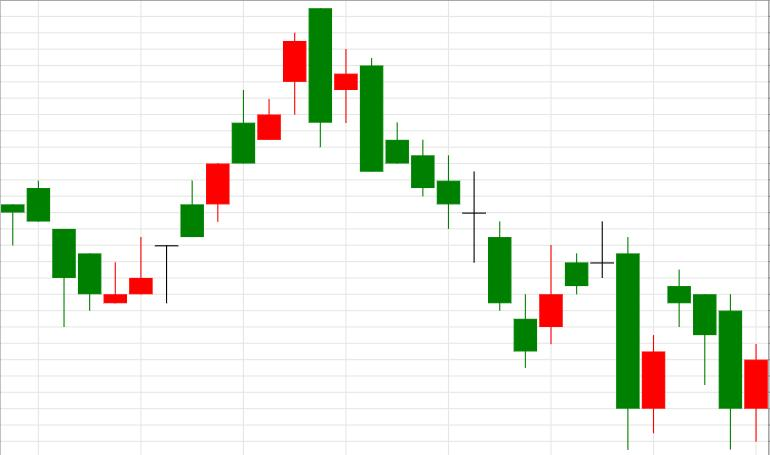bearish_engulfing_fall: (104, 8, 332, 304)
